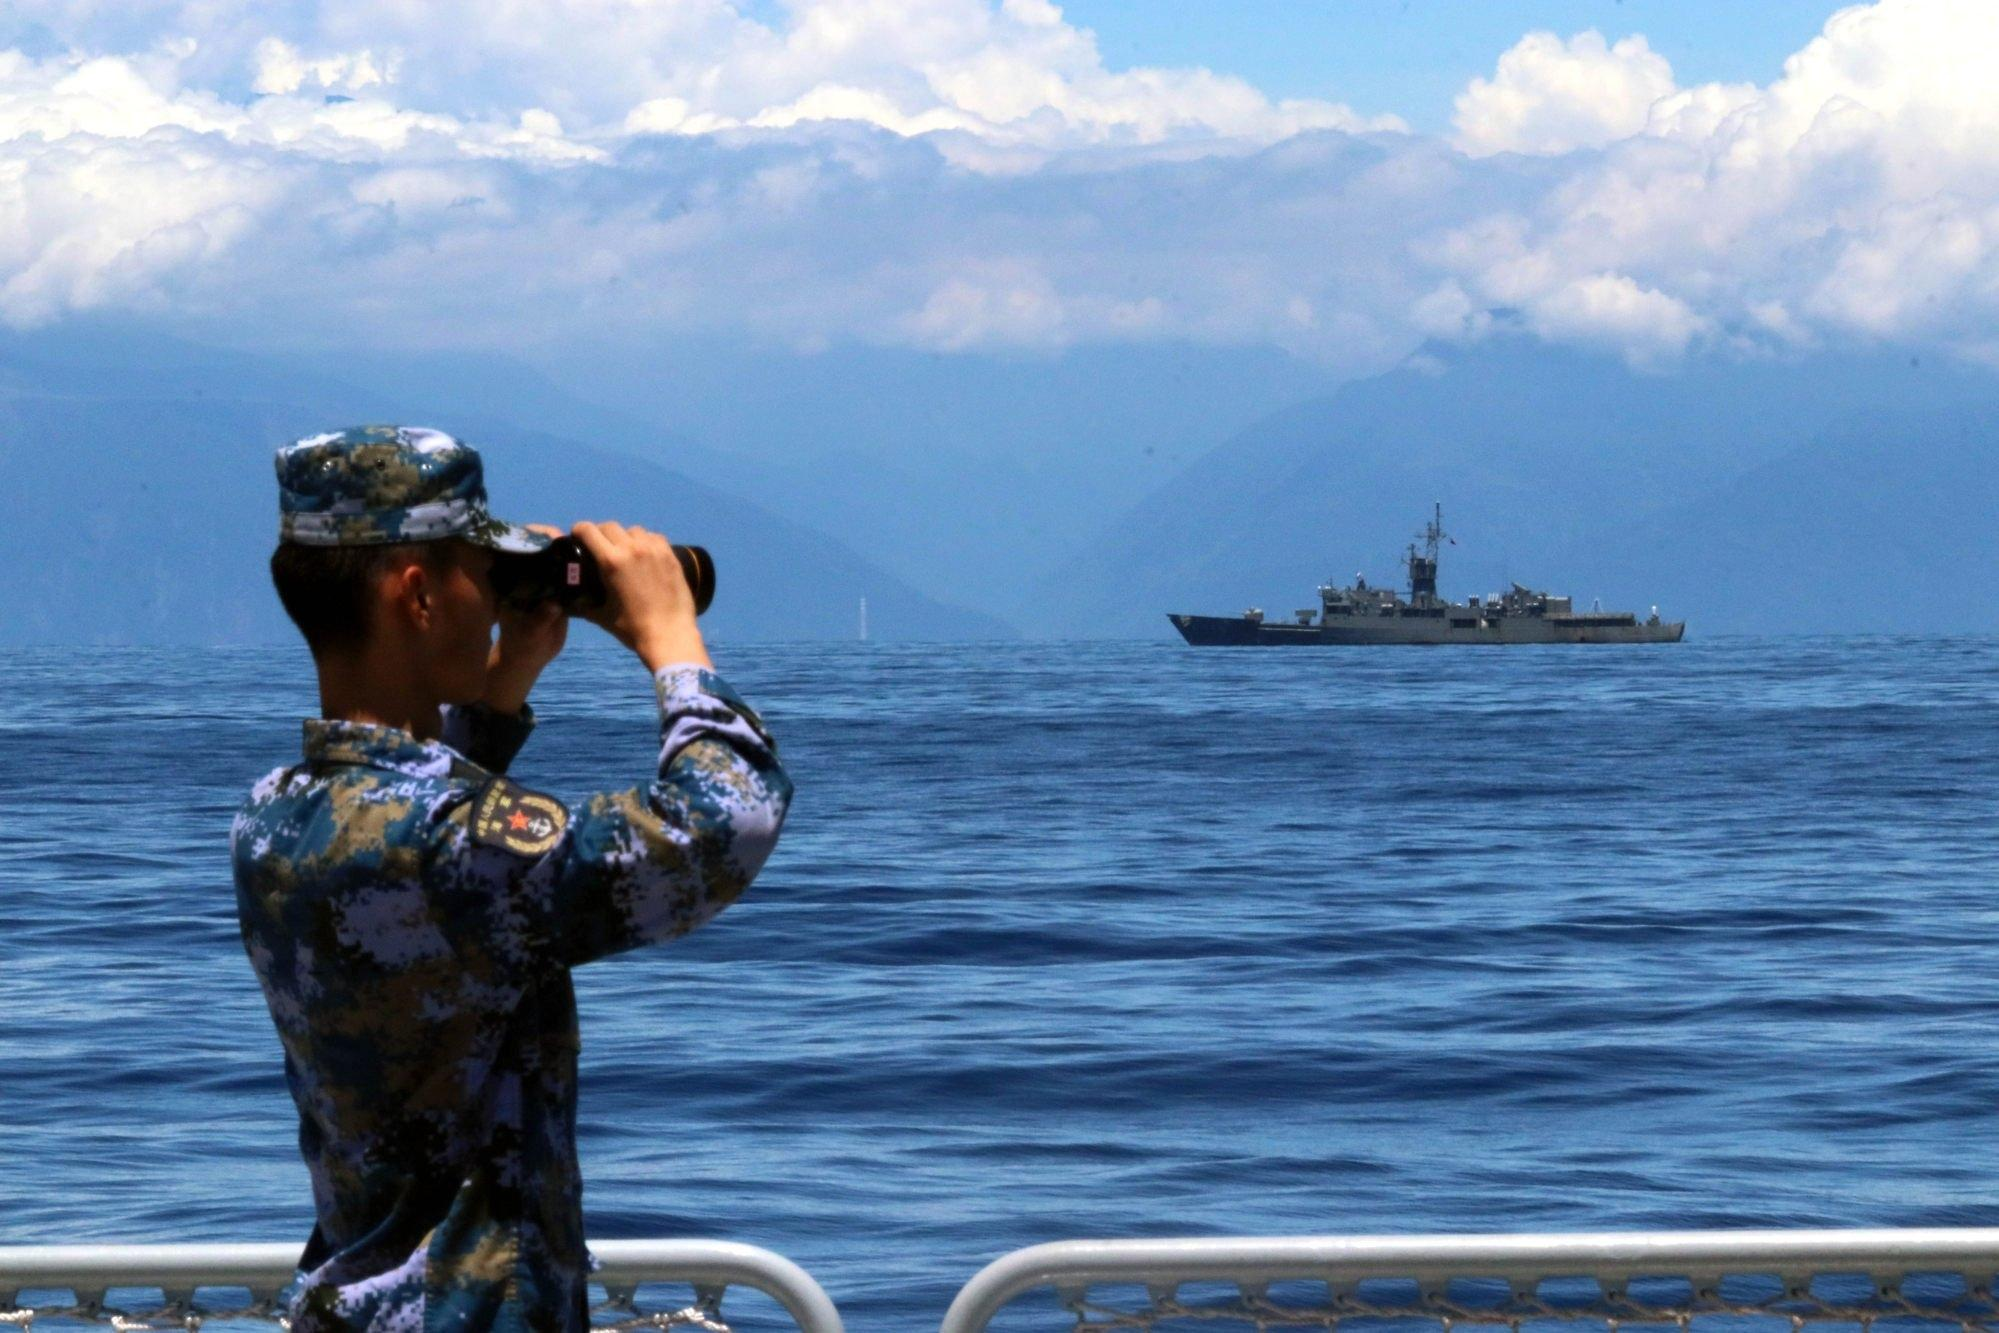MIL_Ship: (1163, 503, 1691, 656)
